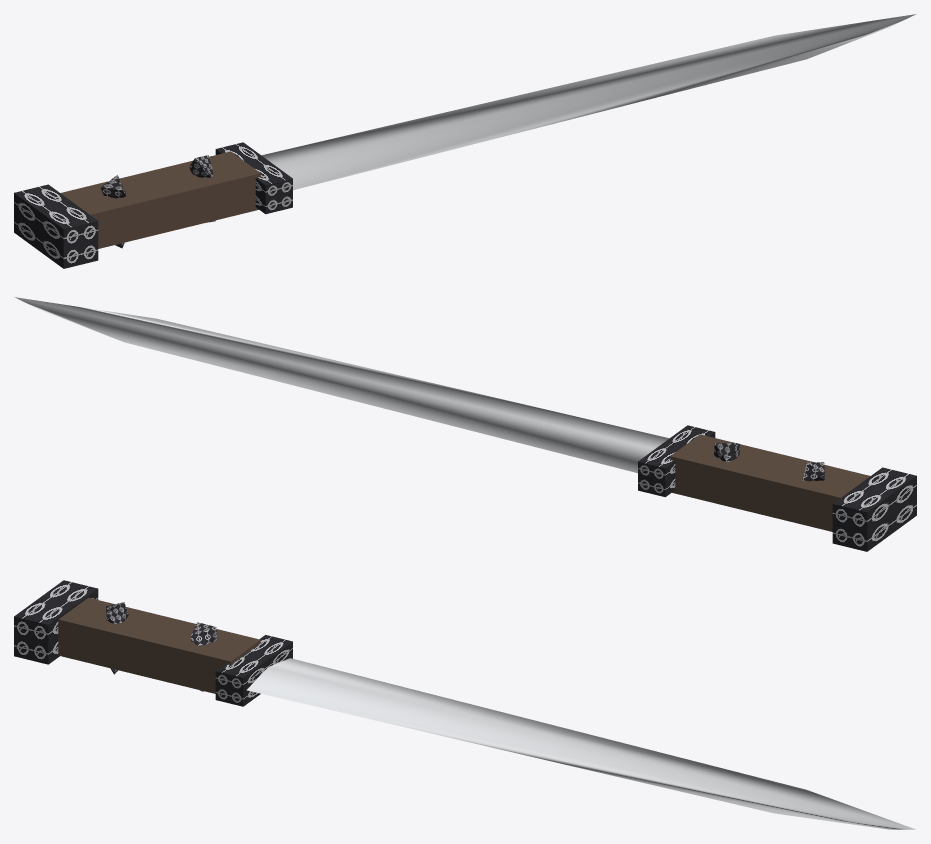
Rendered from kinjal_lod2.glb.
3 views of the same model, one above another, from view 1: azimuth 30°, elevation 25°; view 2: azimuth 150°, elevation 25°; view 3: azimuth 330°, elevation 25° (orthographic).
Visible parts, largest first — view 1: m; view 2: m; view 3: m.
Part boxes in pixels (bbox=[...]): m: bbox=[14, 14, 916, 268]; m: bbox=[14, 297, 916, 551]; m: bbox=[14, 580, 915, 829].
Bounding box in the file's own units: 0.5092 × 0.0377 × 0.05.
3 materials, 1 textured.
